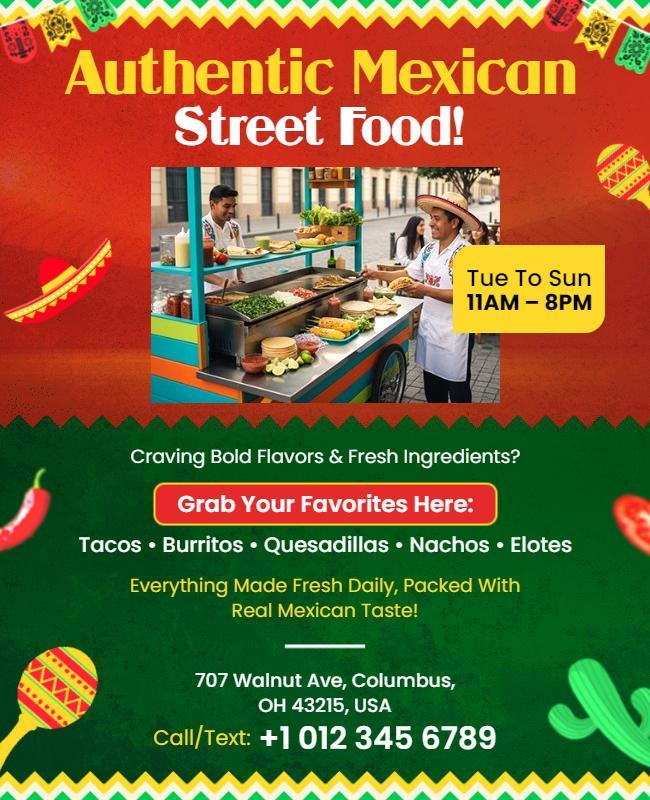CTA: (167, 490, 480, 519)
Headline: (119, 563, 541, 630)
Product: (148, 215, 433, 382)
logo: (61, 47, 610, 152)
